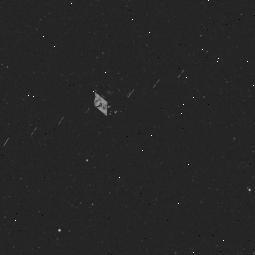smart_1: (0, 61, 177, 146)
